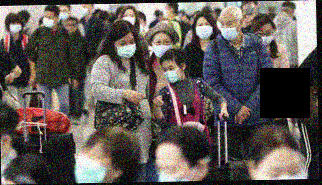with_mask: (71, 143, 114, 182), (151, 157, 191, 181), (113, 36, 137, 60), (151, 36, 172, 60), (219, 18, 239, 42), (161, 62, 180, 83), (256, 26, 275, 47), (193, 20, 214, 39), (120, 11, 135, 27), (6, 21, 23, 34), (41, 13, 56, 27), (241, 1, 255, 16), (78, 4, 89, 16), (161, 4, 170, 18), (58, 8, 68, 20)
without_mask: (64, 18, 77, 33)
